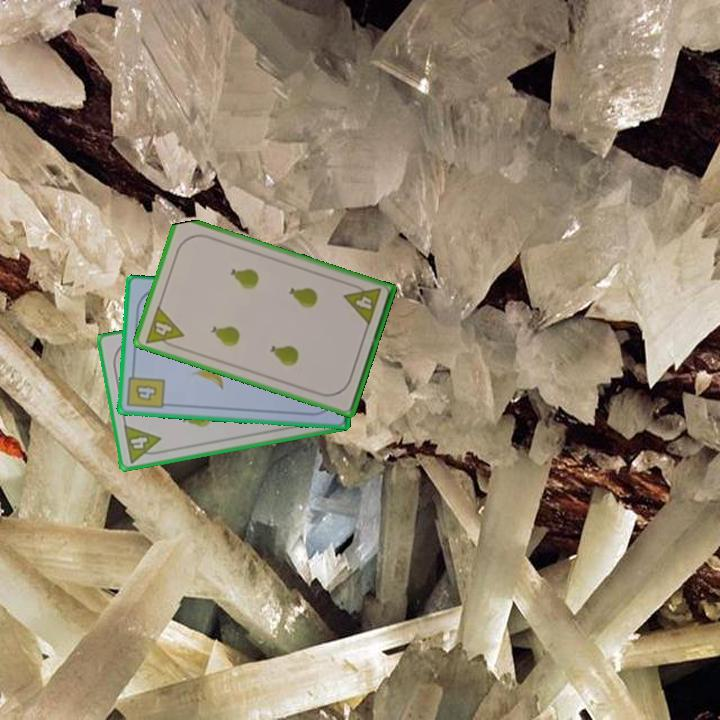4b: (124, 366, 168, 412)
4p: (141, 302, 187, 352), (341, 279, 384, 328), (120, 422, 166, 466)
